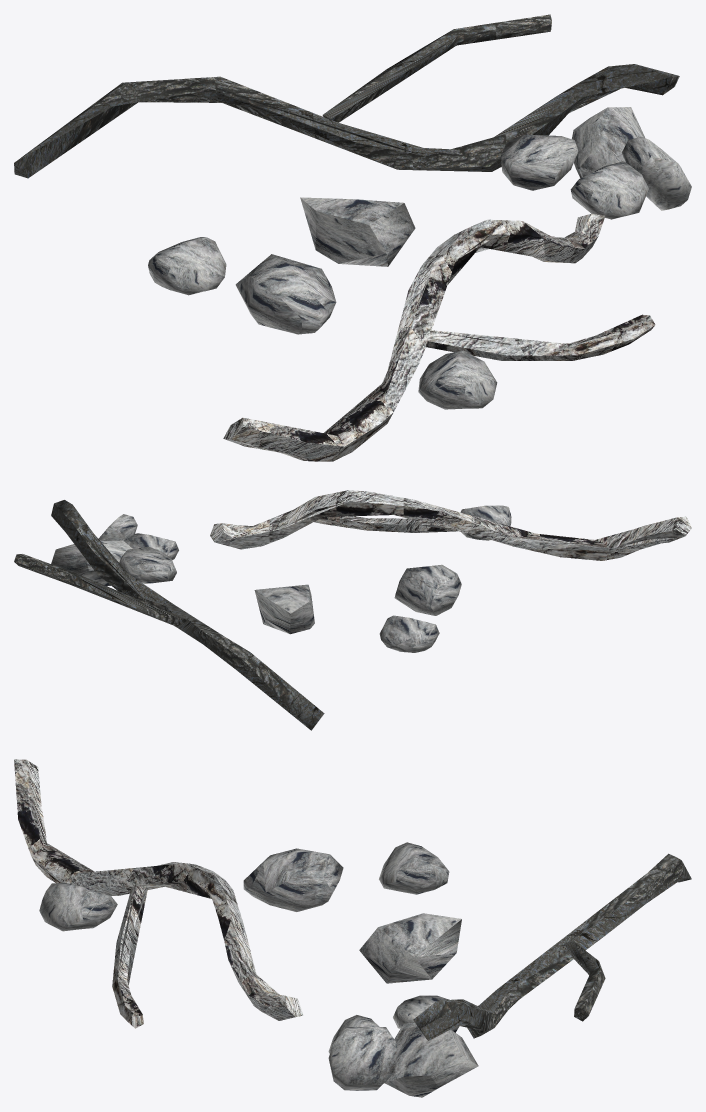
The model's file is SticksandStones_01.DAE.
The picture shows the model from 3 angles, top to bottom: view 1: azimuth 30°, elevation 25°; view 2: azimuth 150°, elevation 25°; view 3: azimuth 270°, elevation 25°; orthographic projection. The views are drawn at different scales.
Parts seen in each view (by area): view 1: SticksandStonesOne128, SticksandStonesOne64; view 2: SticksandStonesOne128, SticksandStonesOne64; view 3: SticksandStonesOne128, SticksandStonesOne64.
Part boxes in pixels (x1=…): SticksandStonesOne128: x1=14, y1=14, x2=691, y2=461; SticksandStonesOne64: x1=148, y1=64, x2=678, y2=437; SticksandStonesOne128: x1=14, y1=490, x2=691, y2=730; SticksandStonesOne64: x1=94, y1=502, x2=686, y2=650; SticksandStonesOne128: x1=14, y1=759, x2=691, y2=1097; SticksandStonesOne64: x1=26, y1=761, x2=644, y2=1090.
Bounding box in the file's own units: 2.64 × 2.57 × 0.4343.
